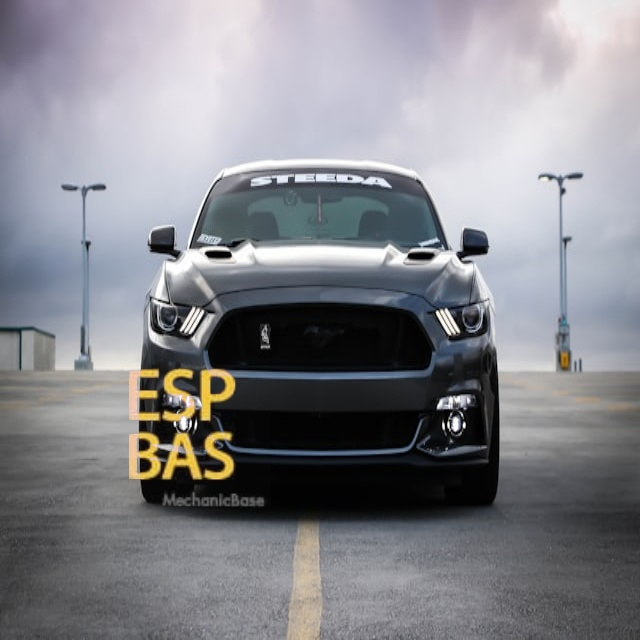symbol: (93, 337, 271, 515)
